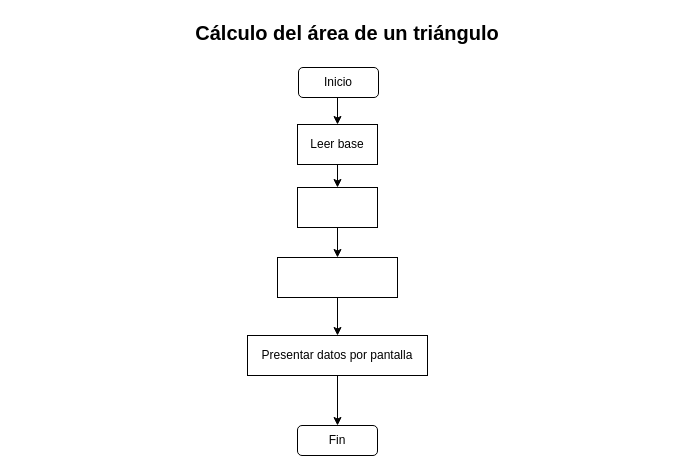
The diagram is 694 pixels wide and 473 high, and some of its shapes have lost their labels. Here are the shapes that lost their labels. From the top down, the box of each, then its label:
(296, 186, 378, 228): Leer altura
(276, 256, 398, 298): Calcular área
